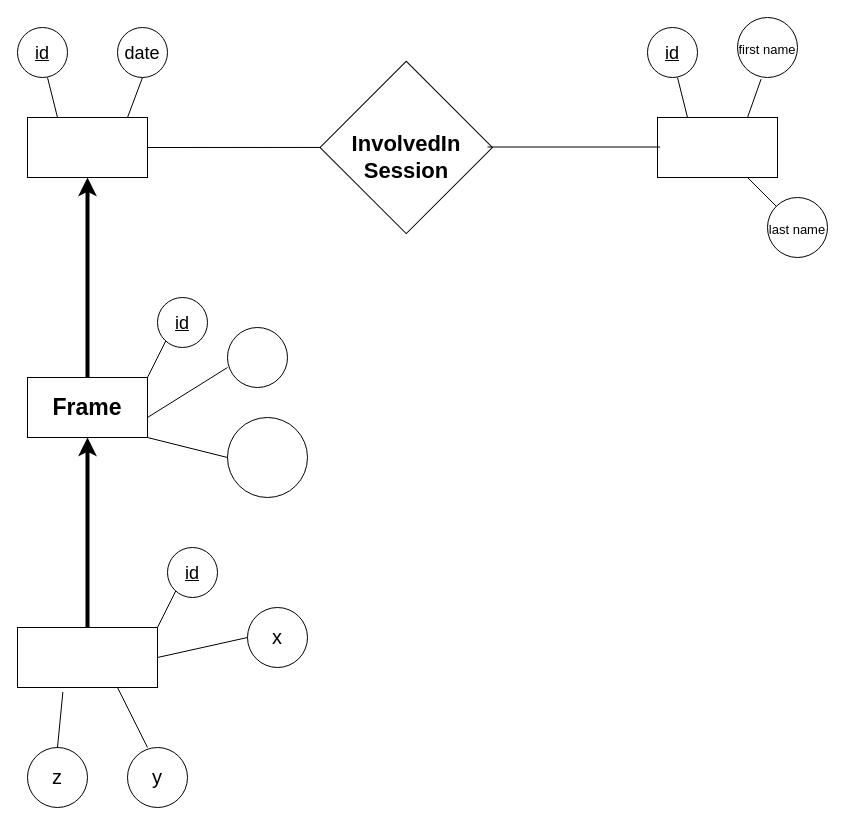
This 845x825 diagram has some shape labels left out. Each missing label, with the centre of its shape:
"Coordinate" belongs at point 87,657.
"description" belongs at point 267,457.
"name" belongs at point 257,357.
"Session" belongs at point 87,147.
"User" belongs at point 717,147.
